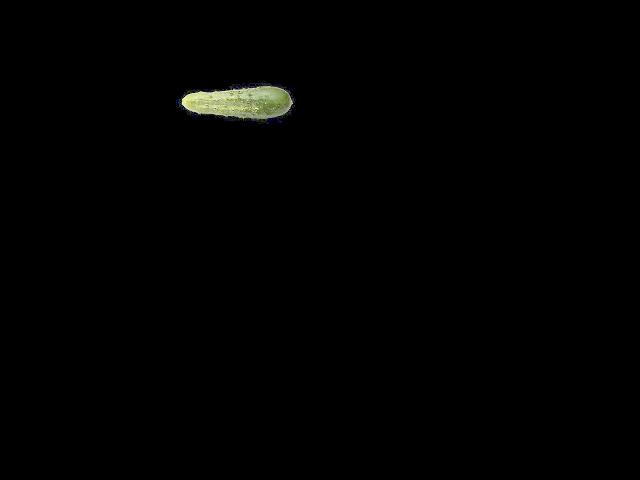cucumber: (182, 86, 293, 120)
